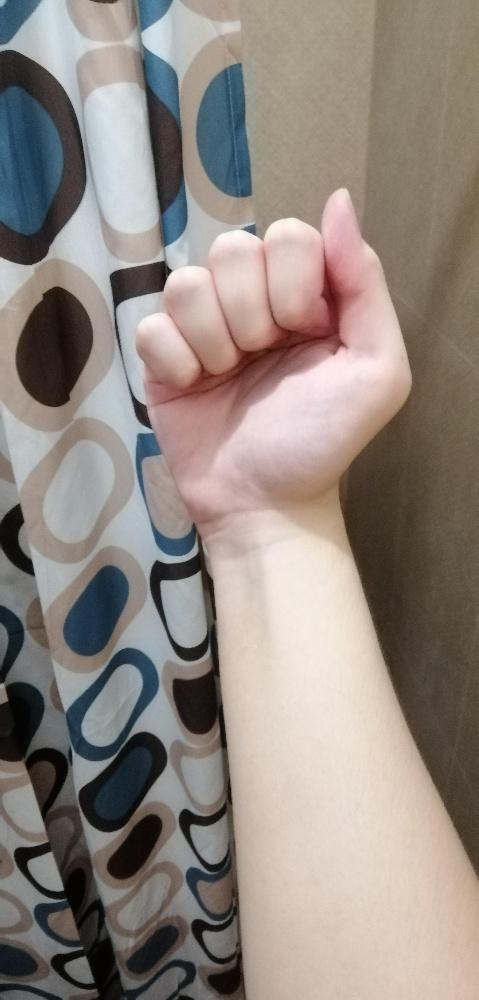a: (134, 181, 415, 513)
